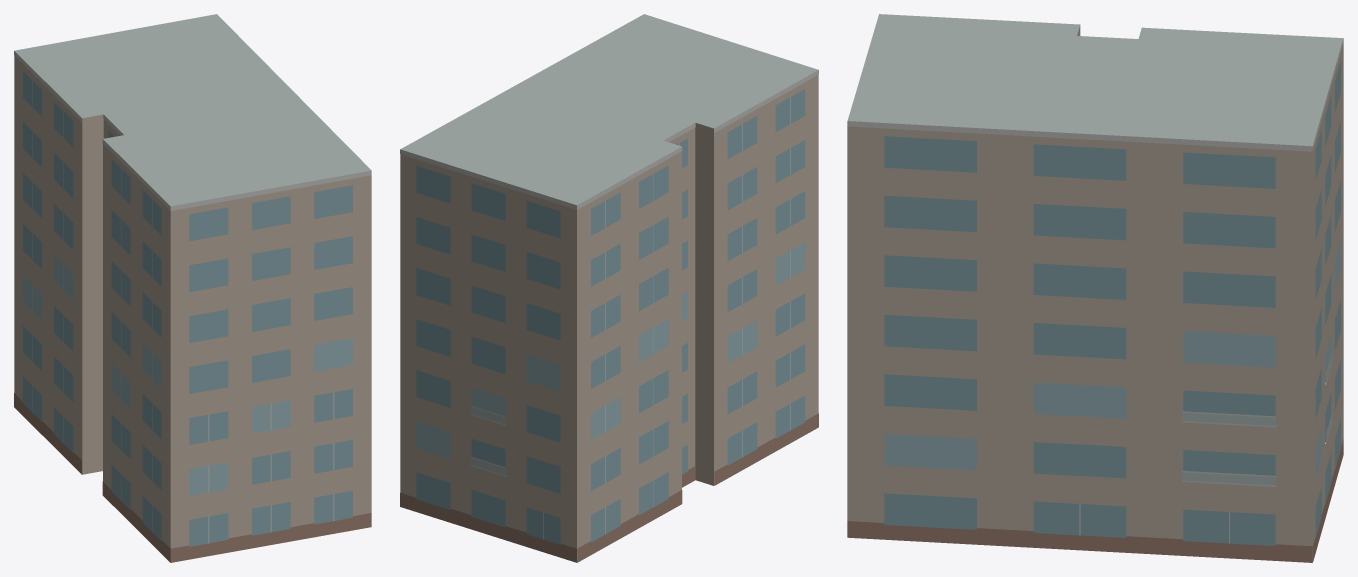
Rendered from survey-upis-32656504.glb.
3 views of the same model, side by side, from view 1: azimuth 30°, elevation 25°; view 2: azimuth 150°, elevation 25°; view 3: azimuth 270°, elevation 25° (orthographic). The views are drawn at different scales.
Parts seen in each view (by area): view 1: survey-upis-32656504.tmp; view 2: survey-upis-32656504.tmp; view 3: survey-upis-32656504.tmp.
Part boxes in pixels (x1,y1,x2,y2): survey-upis-32656504.tmp: (14,14,371,562); survey-upis-32656504.tmp: (400,14,818,562); survey-upis-32656504.tmp: (847,14,1343,562).
Bounding box in the file's own units: 12.67 × 18.6 × 20.08.
